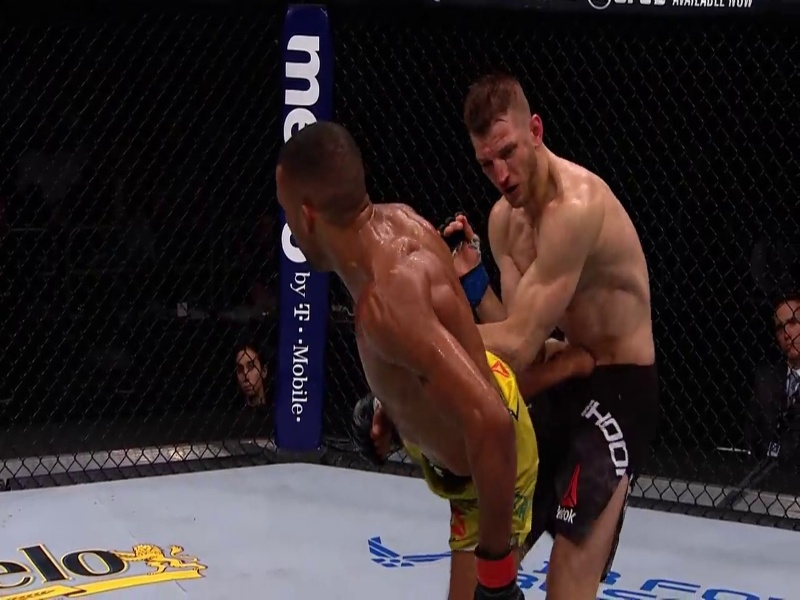fighter: (240, 110, 597, 600), (438, 59, 700, 600)
